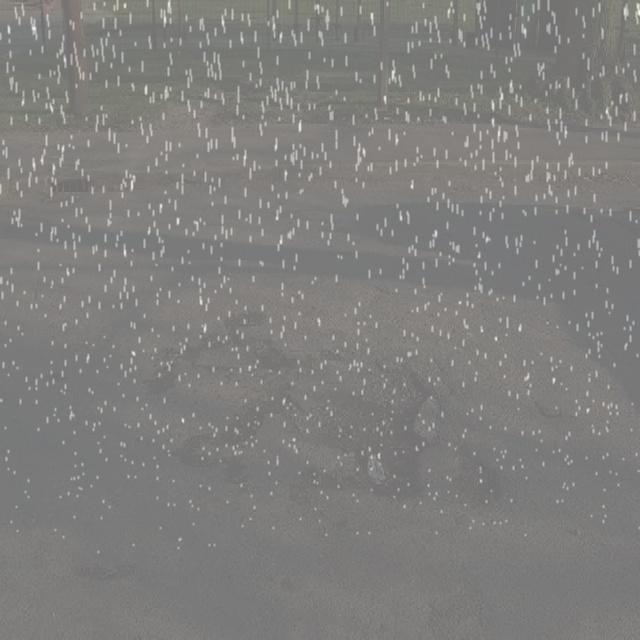Pothole: (119, 305, 530, 533)
